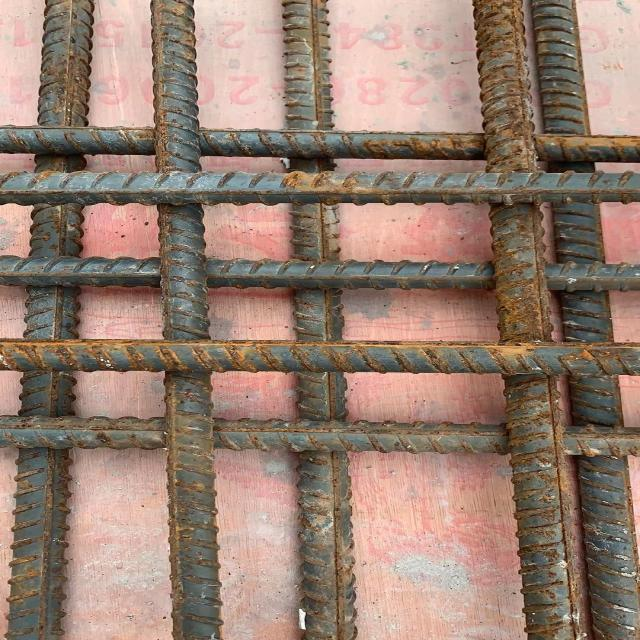ribbed bar: (470, 1, 583, 640), (524, 0, 636, 639), (3, 0, 98, 639), (278, 1, 361, 640), (149, 0, 226, 639), (0, 413, 639, 459), (0, 123, 639, 165), (0, 339, 639, 380), (0, 254, 638, 295), (0, 170, 639, 207)
